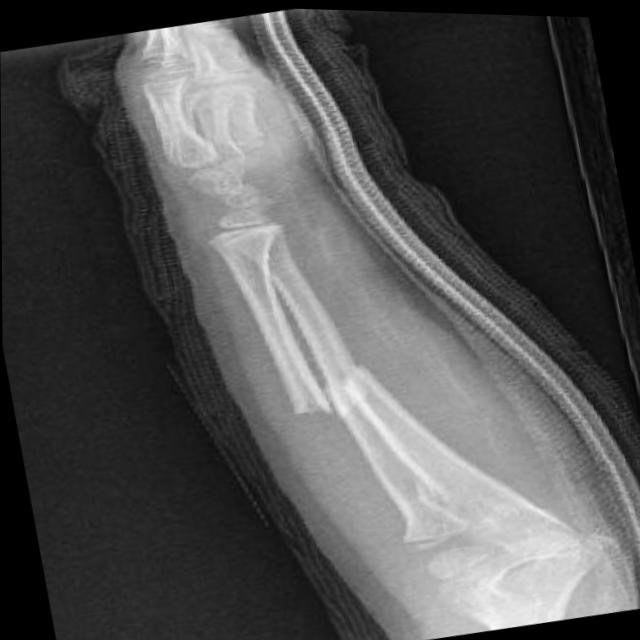fracture: (274, 354, 397, 431)
